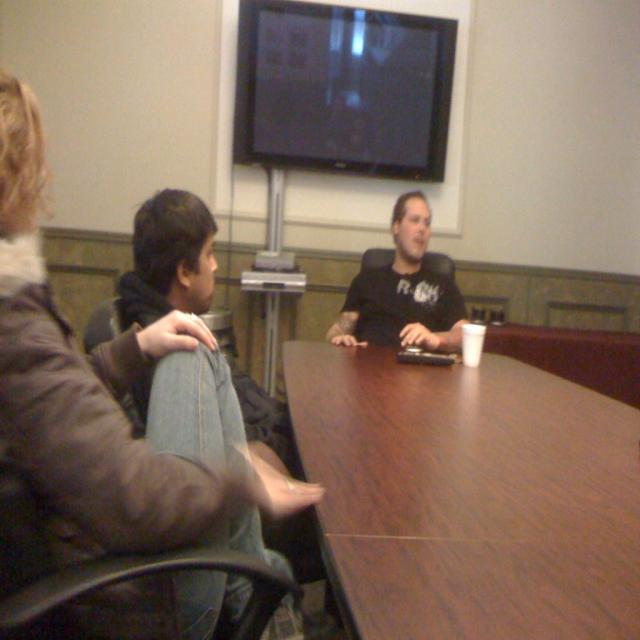desk: (291, 343, 638, 639)
person: (0, 67, 298, 615), (106, 188, 322, 497), (325, 190, 470, 349)
tv: (234, 1, 461, 183)
